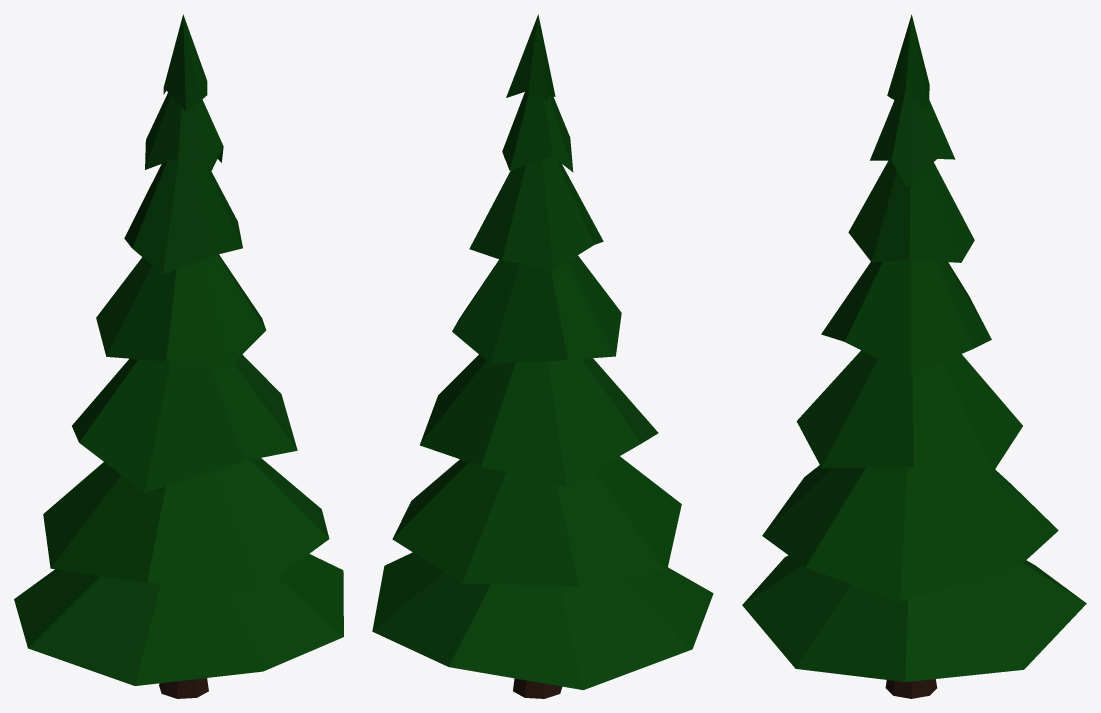
Rendered from ChristmasTree.fbx.
3 views of the same model, side by side, from view 1: azimuth 30°, elevation 25°; view 2: azimuth 150°, elevation 25°; view 3: azimuth 270°, elevation 25° (orthographic).
Visible parts, largest first — view 1: Christmas Tree; view 2: Christmas Tree; view 3: Christmas Tree.
Part boxes in pixels (box(x1,y1,x2,y2)): Christmas Tree: box(14, 14, 343, 698); Christmas Tree: box(372, 14, 713, 698); Christmas Tree: box(742, 14, 1086, 698).
Size of the model in its own units: 282 by 583 by 271.
